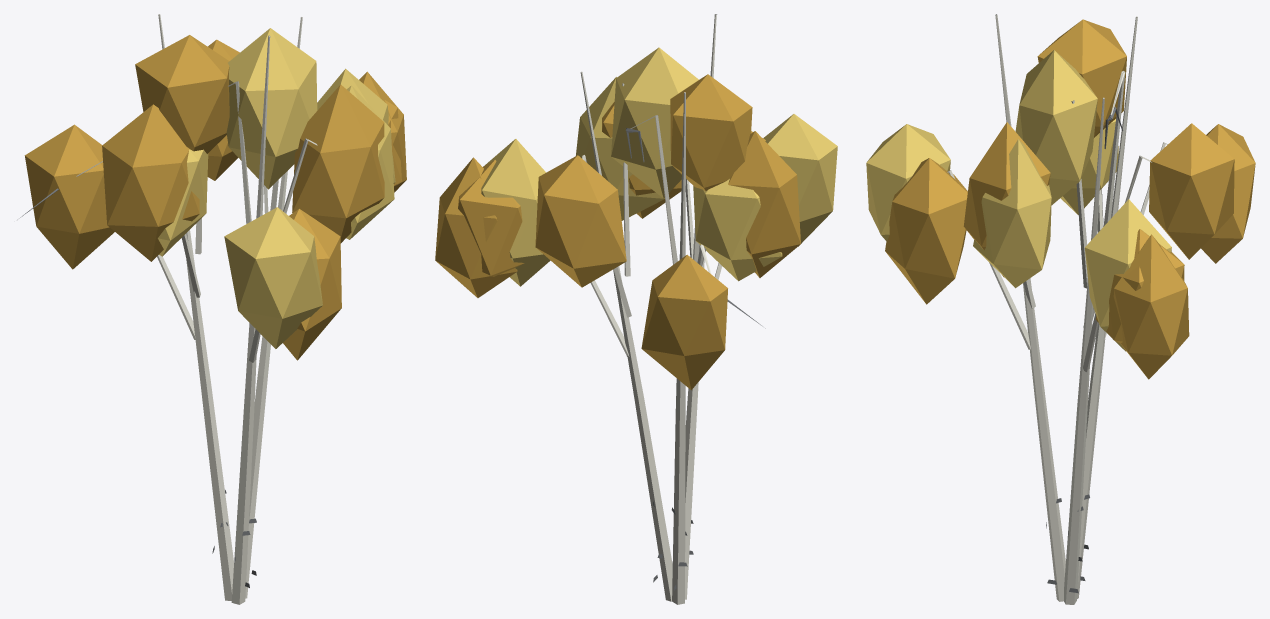
Rendered from birch_winter_light_02.glb.
3 views of the same model, side by side, from view 1: azimuth 30°, elevation 25°; view 2: azimuth 150°, elevation 25°; view 3: azimuth 270°, elevation 25° (orthographic). The views are drawn at different scales.
Parts seen in each view (by area): view 1: Birch_winter_light_02; view 2: Birch_winter_light_02; view 3: Birch_winter_light_02.
Boxes of the visible parts, x1=… form: Birch_winter_light_02: x1=17, y1=14, x2=406, y2=604; Birch_winter_light_02: x1=435, y1=14, x2=837, y2=604; Birch_winter_light_02: x1=866, y1=14, x2=1255, y2=604.
Size of the model in its own units: 9.85 by 15.14 by 9.14.
